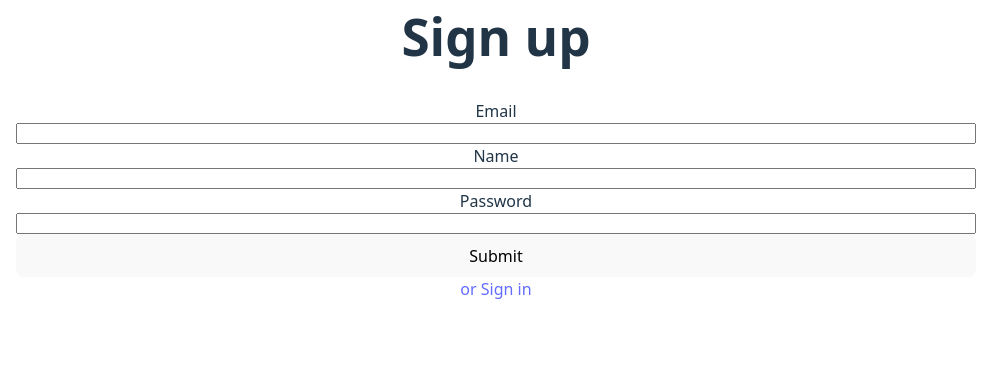
Test: Signup › displays error message when signup fails due to existing email
This screenshot has width=993, height=372.
In the field labelled "Email": {"x": 496, "y": 133} top-left (16, 123), bottom-right (976, 144), type "existing@example.com"
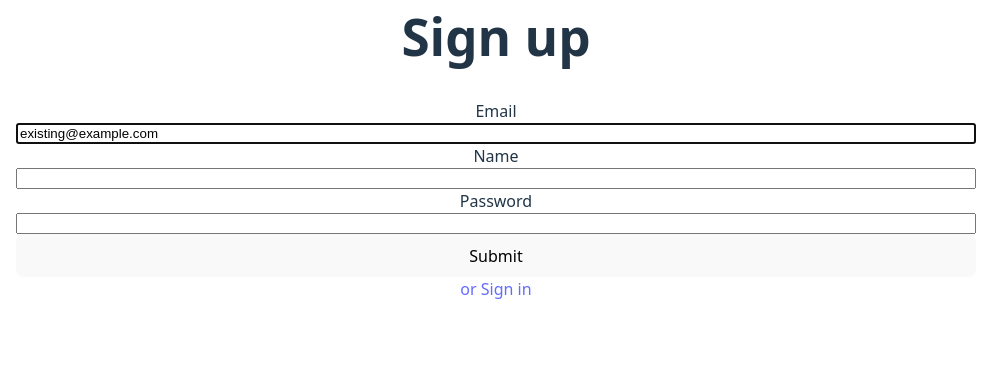
In the field labelled "Name": {"x": 496, "y": 178} top-left (16, 168), bottom-right (976, 189), type "John Doe"
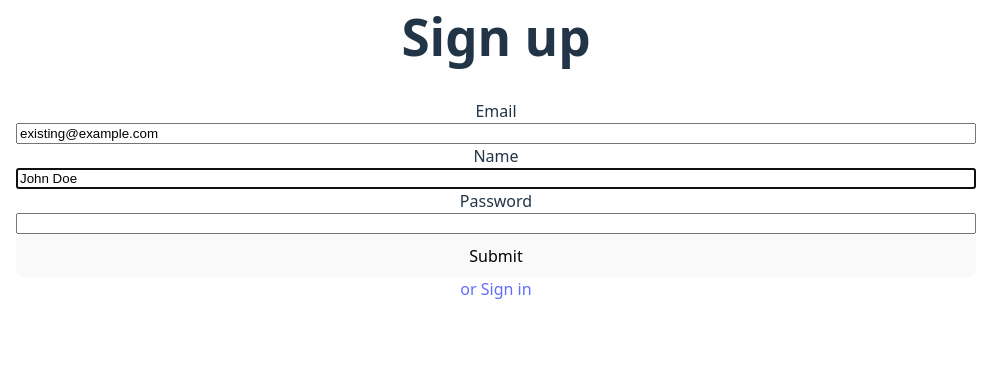
In the password field labelled "Password": {"x": 496, "y": 223} top-left (16, 213), bottom-right (976, 234), type "password123"
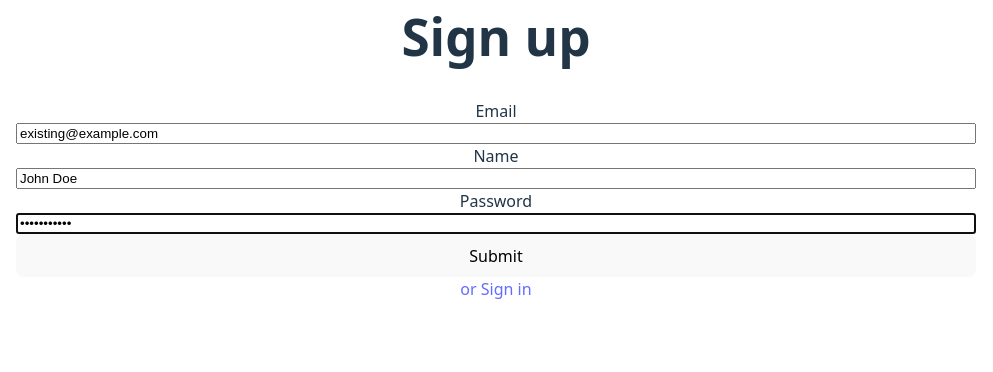
Click the button "Submit": {"x": 496, "y": 256} top-left (16, 234), bottom-right (976, 277)
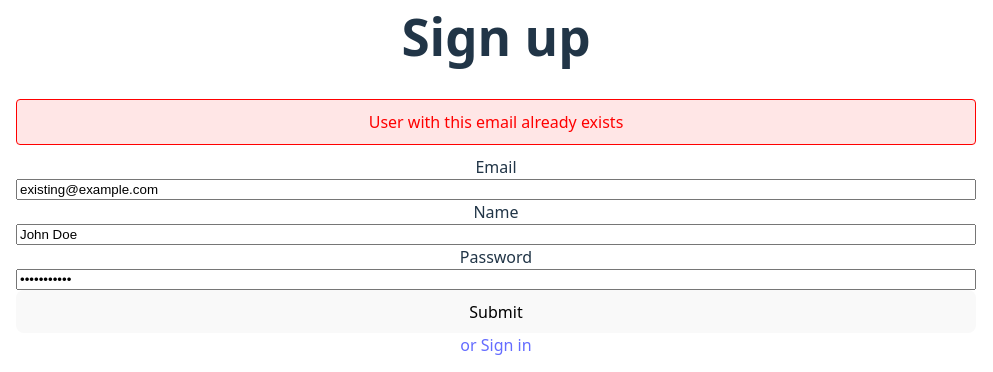
expect the text "User with this email already exists" is shown: met, box top-left (16, 99), bottom-right (976, 145)
